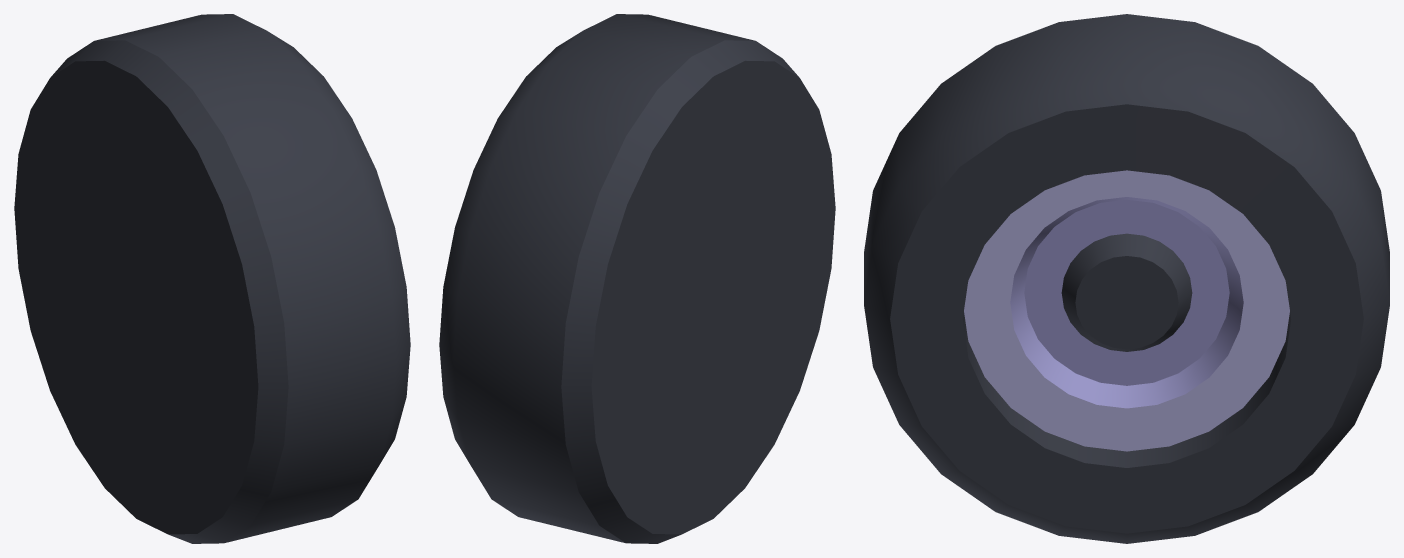
File: wheel_new.glb
The picture shows the model from 3 angles, left to right: view 1: azimuth 30°, elevation 25°; view 2: azimuth 150°, elevation 25°; view 3: azimuth 270°, elevation 25°; orthographic projection.
Visible parts, largest first — view 1: mergedBlocks(Clone); view 2: mergedBlocks(Clone); view 3: mergedBlocks(Clone).
Boxes of the visible parts, <box> form: mergedBlocks(Clone): <box>14,14,410,543</box>; mergedBlocks(Clone): <box>439,14,835,543</box>; mergedBlocks(Clone): <box>864,14,1389,543</box>.
Bounding box in the file's own units: 0.2163 × 0.6161 × 0.6161.
